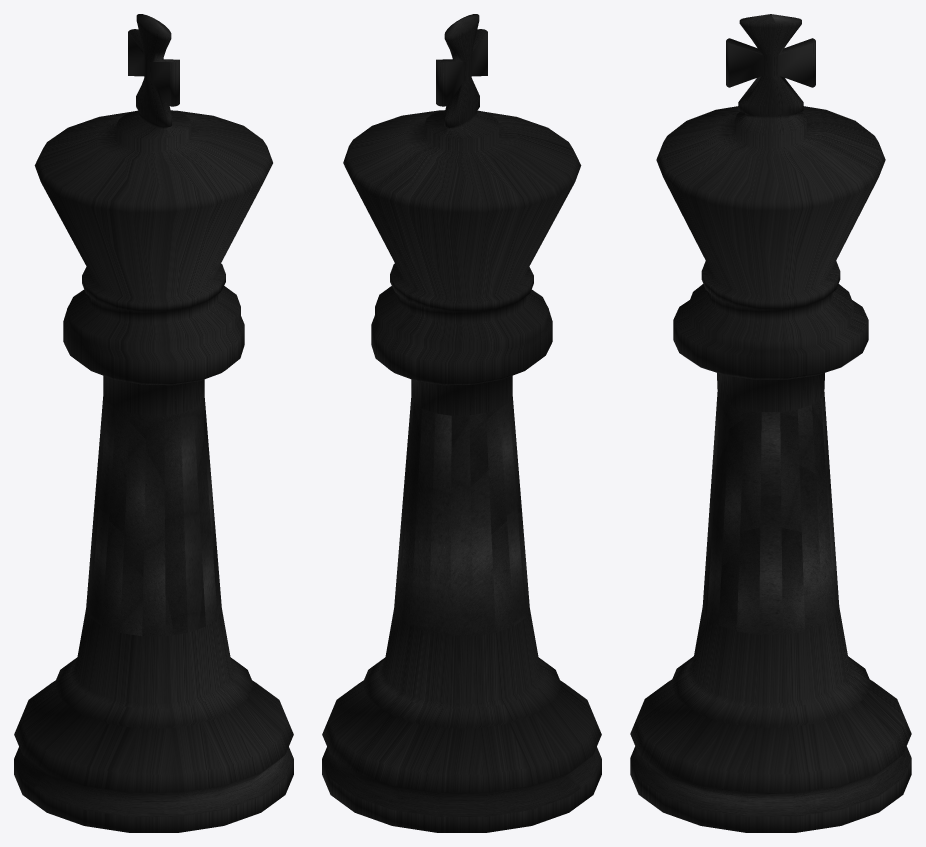
The model's file is b-king-stone.gltf.
3 views of the same model, side by side, from view 1: azimuth 30°, elevation 25°; view 2: azimuth 150°, elevation 25°; view 3: azimuth 270°, elevation 25° (orthographic).
Visible parts, largest first — view 1: B_King; view 2: B_King; view 3: B_King.
Boxes of the visible parts, x1,y1,x2,y2 form: B_King: (14, 14, 293, 832); B_King: (322, 14, 601, 832); B_King: (630, 14, 911, 832).
Bounding box in the file's own units: 48.6 × 149 × 49.35.
1 material, 1 textured.
